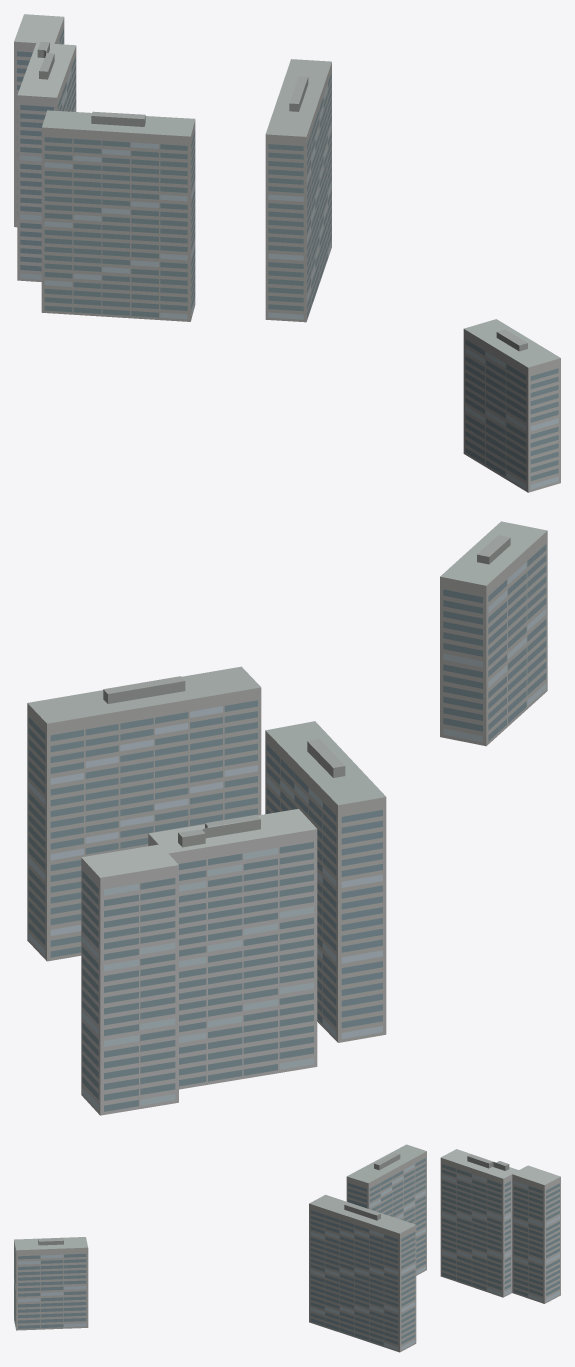
Rendered from apt-a14006001.glb.
3 renders of one model, top to bottom at view 1: azimuth 30°, elevation 25°; view 2: azimuth 150°, elevation 25°; view 3: azimuth 270°, elevation 25°, orthographic. The views are drawn at different scales.
Parts seen in each view (by area): view 1: apt-a14006001; view 2: apt-a14006001; view 3: apt-a14006001.
Boxes of the visible parts, box(x1,y1,x2,y2) form: apt-a14006001: box(14, 14, 560, 492); apt-a14006001: box(27, 521, 547, 1115); apt-a14006001: box(14, 1144, 560, 1352).
Bounding box in the file's own units: 91.11 × 59 × 236.
